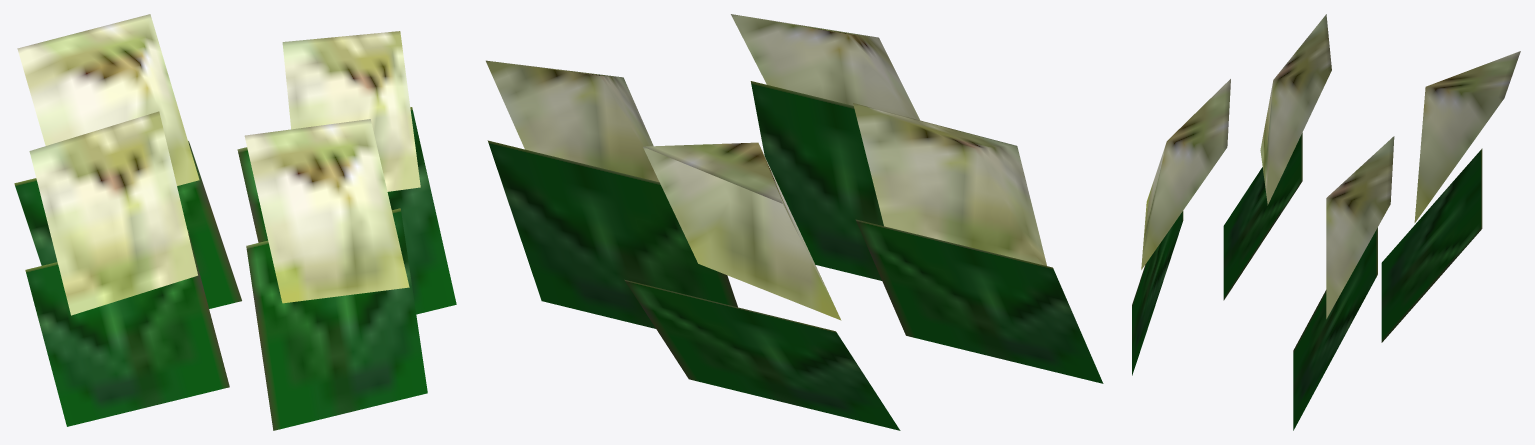
The model's file is flw_tulip_wt.dae.
3 renders of one model, left to right at view 1: azimuth 30°, elevation 25°; view 2: azimuth 150°, elevation 25°; view 3: azimuth 270°, elevation 25°, orthographic. The views are drawn at different scales.
Visible parts, largest first — view 1: flw_tulip_wt; view 2: flw_tulip_wt; view 3: flw_tulip_wt.
Boxes of the visible parts, x1,y1,x2,y2 form: flw_tulip_wt: (14,14,456,430); flw_tulip_wt: (486,14,1103,430); flw_tulip_wt: (1132,14,1520,430).
Bounding box in the file's own units: 30.95 × 17.79 × 25.83.
1 material, 1 textured.
